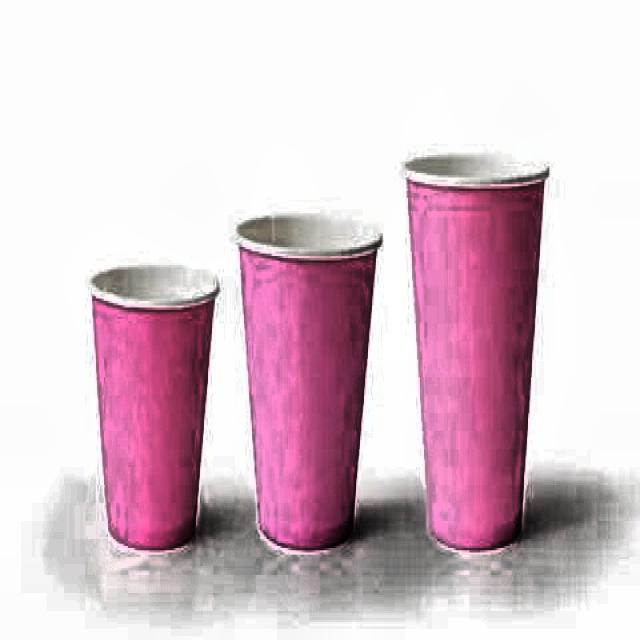Cup: (403, 145, 548, 554), (232, 212, 384, 548), (78, 262, 220, 554)
